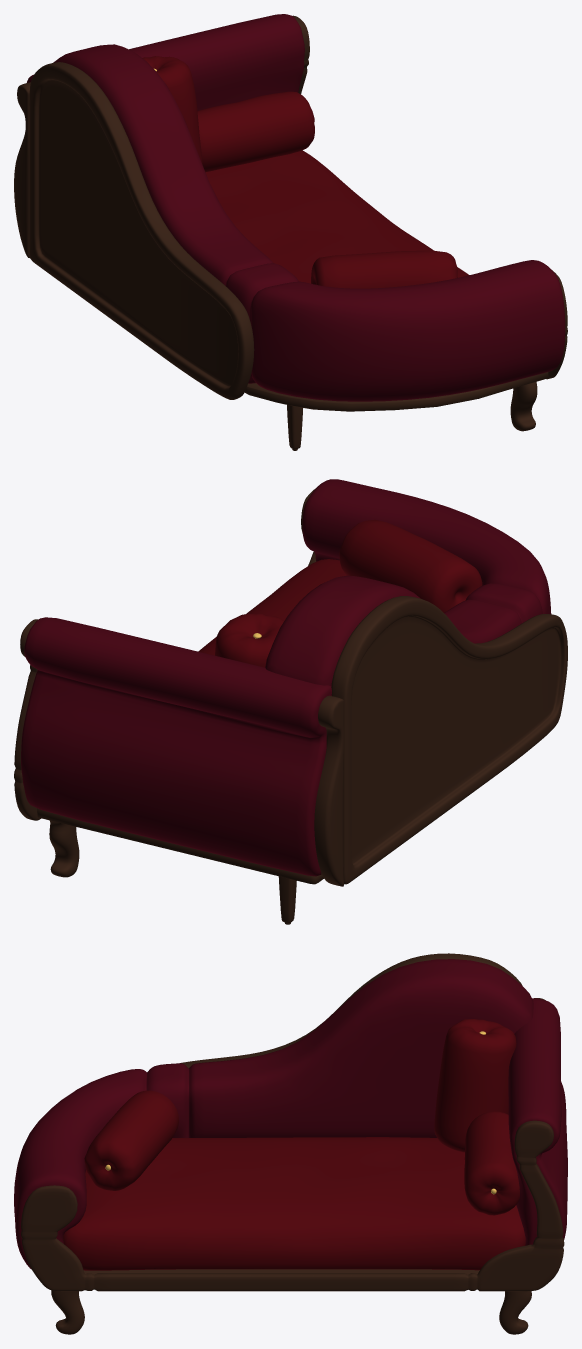
The model's file is Couch.fbx.
3 views of the same model, one above another, from view 1: azimuth 30°, elevation 25°; view 2: azimuth 150°, elevation 25°; view 3: azimuth 270°, elevation 25° (orthographic). The views are drawn at different scales.
Parts seen in each view (by area): view 1: LP Square cushion 02; view 2: LP Square cushion 02; view 3: LP Square cushion 02.
Boxes of the visible parts, bbox=[...] form: LP Square cushion 02: bbox=[14, 14, 567, 450]; LP Square cushion 02: bbox=[14, 479, 567, 924]; LP Square cushion 02: bbox=[14, 953, 567, 1334].
Bounding box in the file's own units: 123 × 118 × 223.
